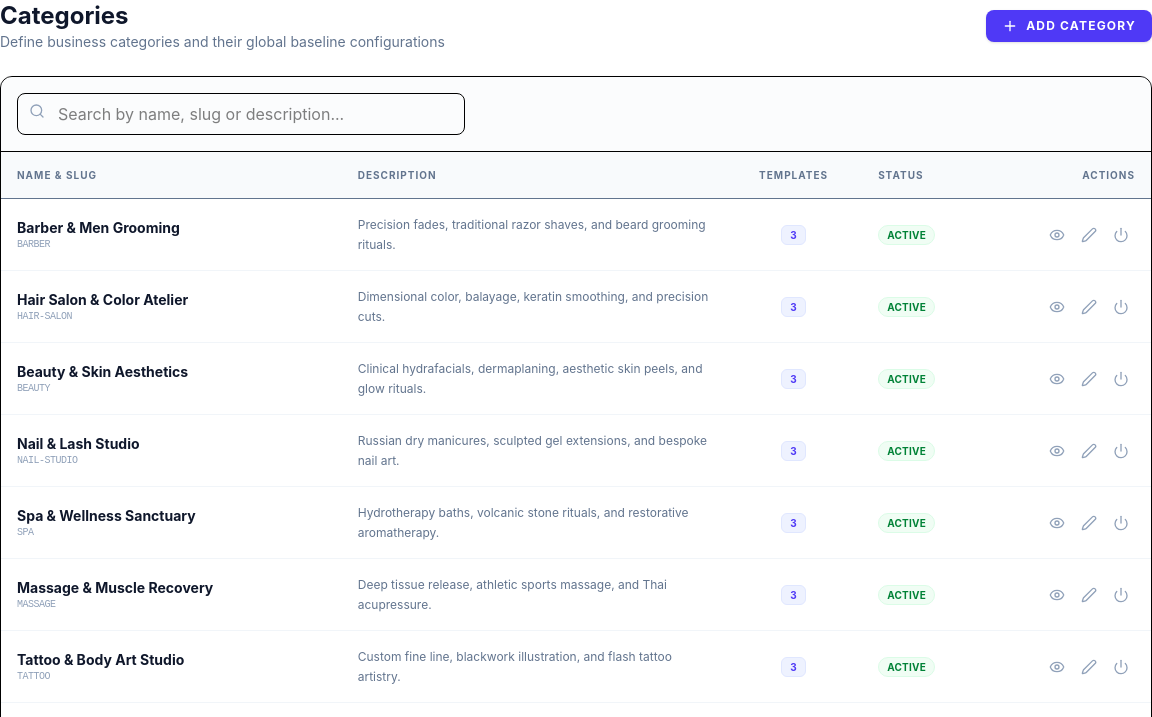
Test: CategoryManagementPage CRUD & Validation › successfully creates a new category when validation passes
Click the button "Add Category" at coordinates (1069, 26), box [986,10,1151,42]
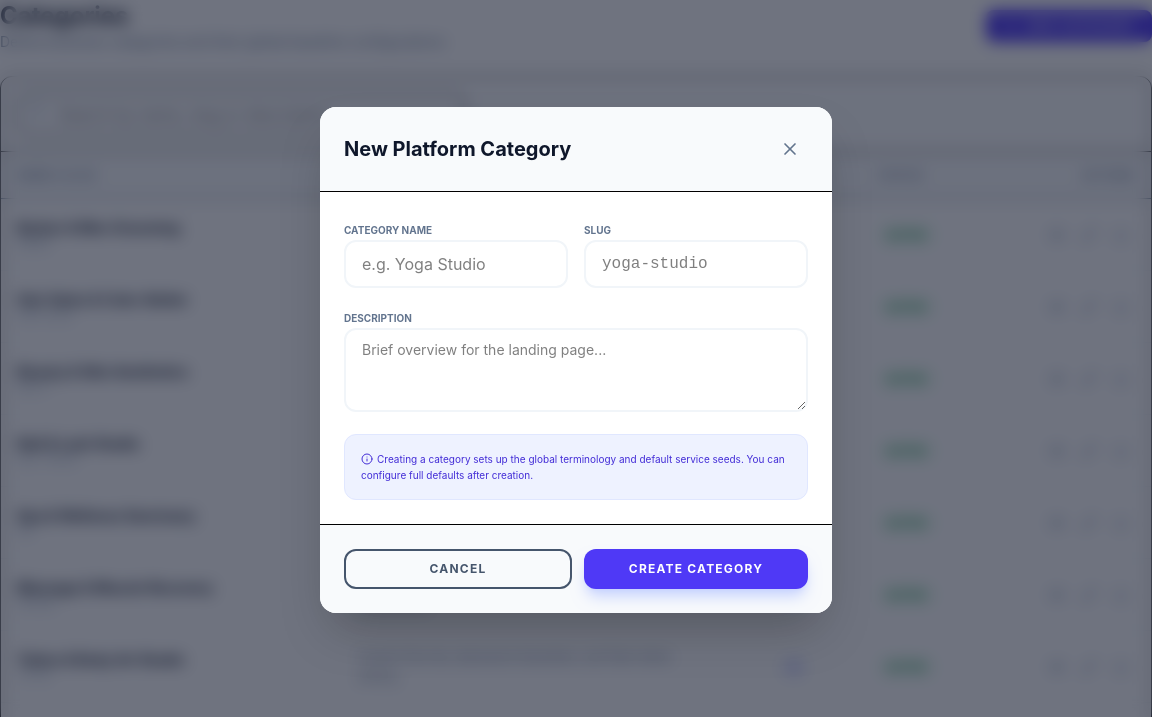
Type "Meditation" into the field with placeholder "e.g. Yoga Studio" at coordinates (456, 264), box [344,240,568,288]
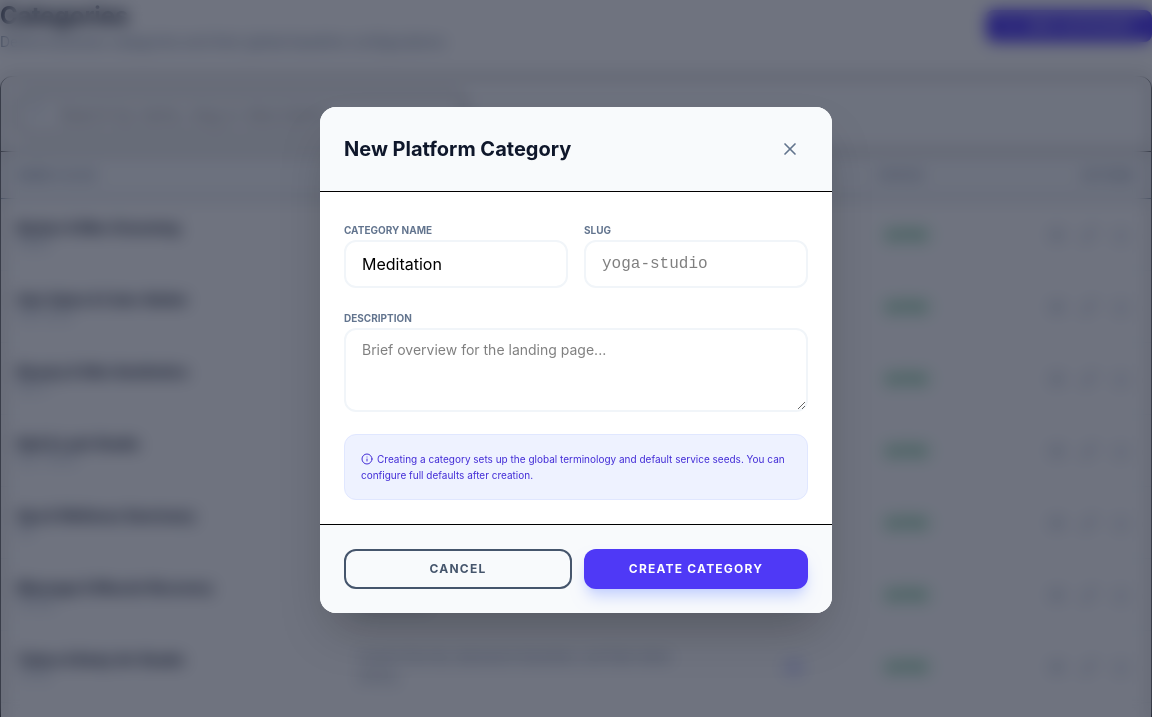
Type "meditation" into the field with placeholder "yoga-studio" at coordinates (696, 264), box [584,240,808,288]
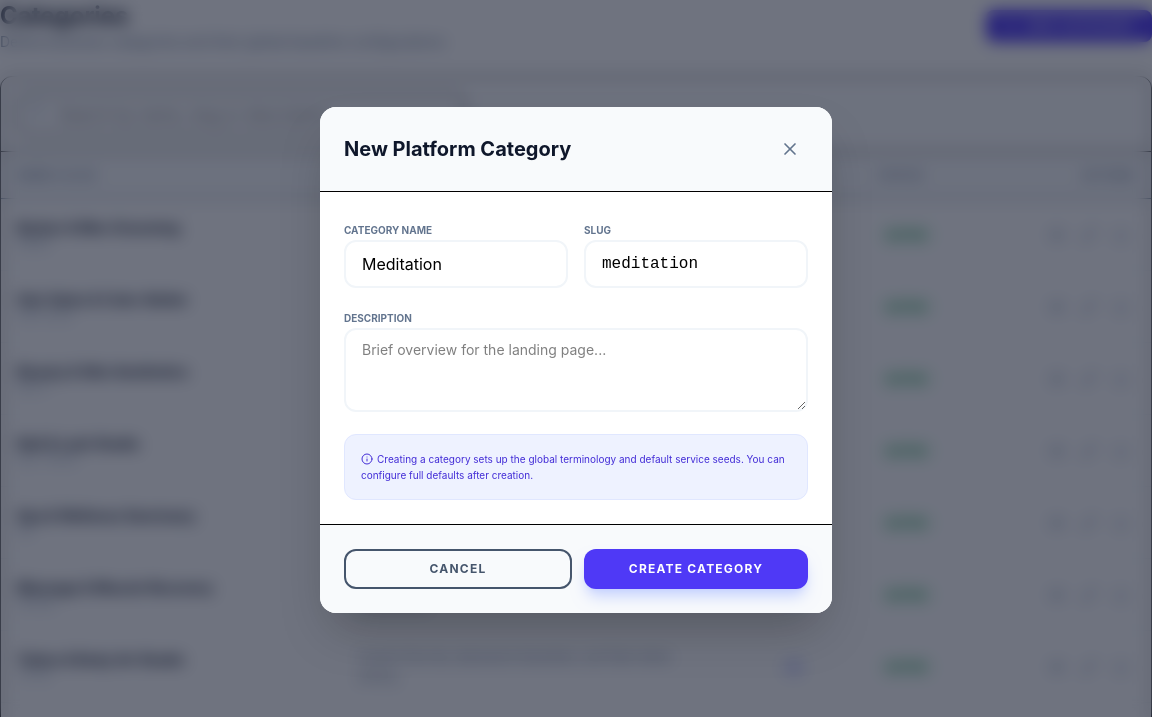
Type "A peaceful space" into the text box with placeholder "Brief overview for the landing page..." at coordinates (576, 370), box [344,328,808,412]
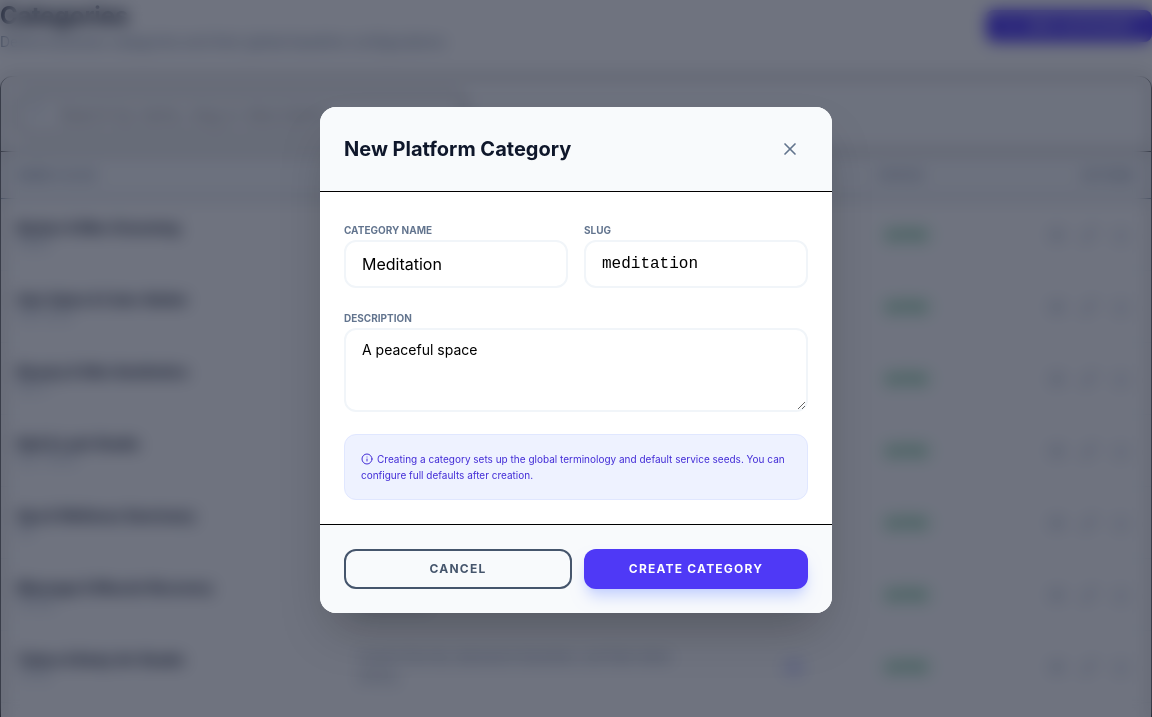
Click the button "Create Category" at coordinates (696, 569), box [584,549,808,589]
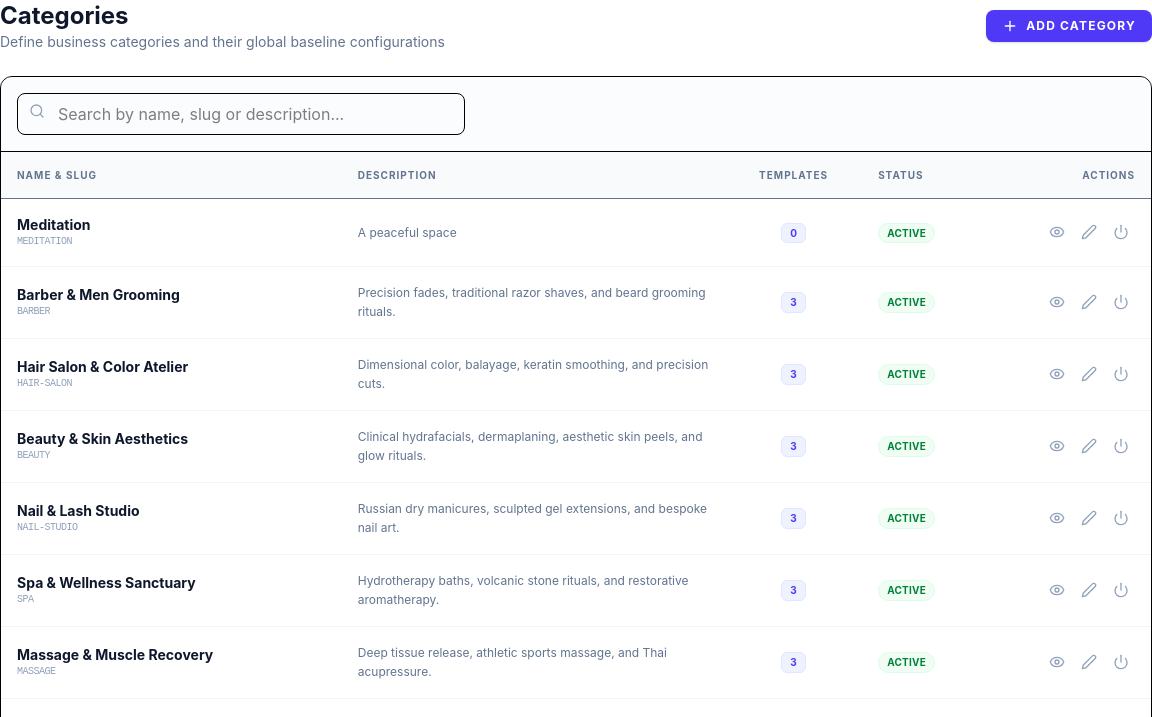
Now the text "Meditation" is shown, box [17,216,91,233]
